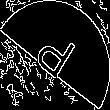P_SW: (29, 24, 81, 86)
